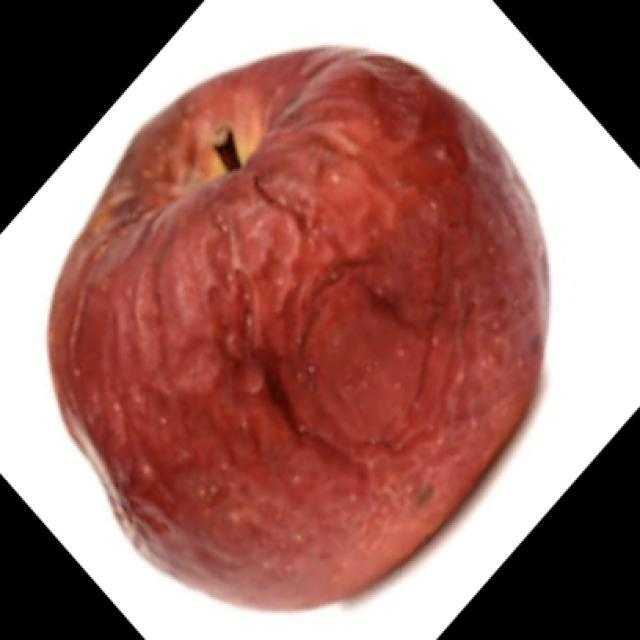Rotten: (105, 47, 525, 610)
